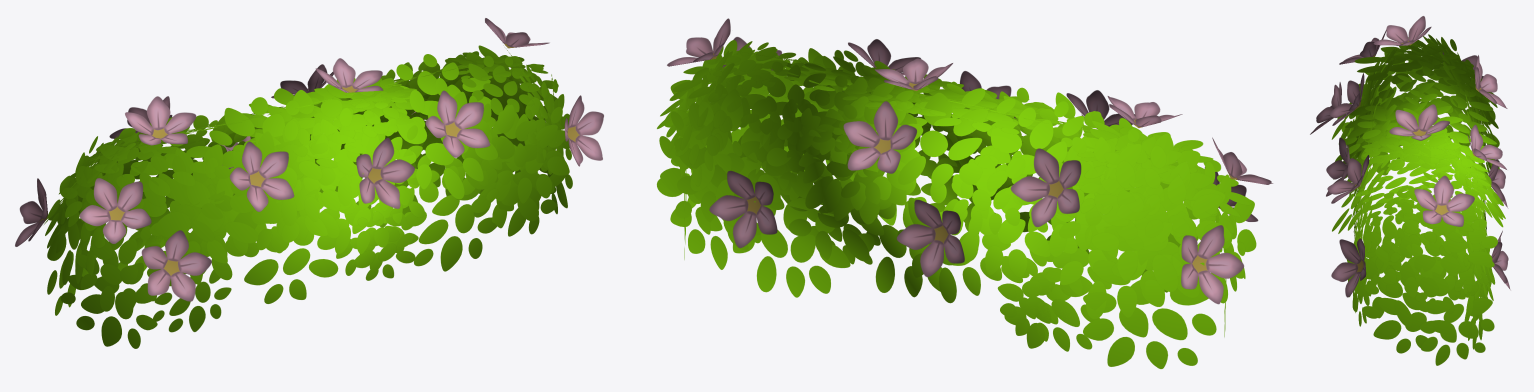
File: Bush_Small_Flowers.glb
3 views of the same model, side by side, from view 1: azimuth 30°, elevation 25°; view 2: azimuth 150°, elevation 25°; view 3: azimuth 270°, elevation 25° (orthographic). The views are drawn at different scales.
Parts seen in each view (by area): view 1: Bush_Small_Flowers; view 2: Bush_Small_Flowers; view 3: Bush_Small_Flowers.
Part boxes in pixels (x1,y1,x2,y2): Bush_Small_Flowers: (15, 18, 603, 348); Bush_Small_Flowers: (657, 18, 1272, 368); Bush_Small_Flowers: (1310, 16, 1510, 365).
Size of the model in its own units: 1.93 by 0.8168 by 0.7617.
2 materials, 2 textured.
